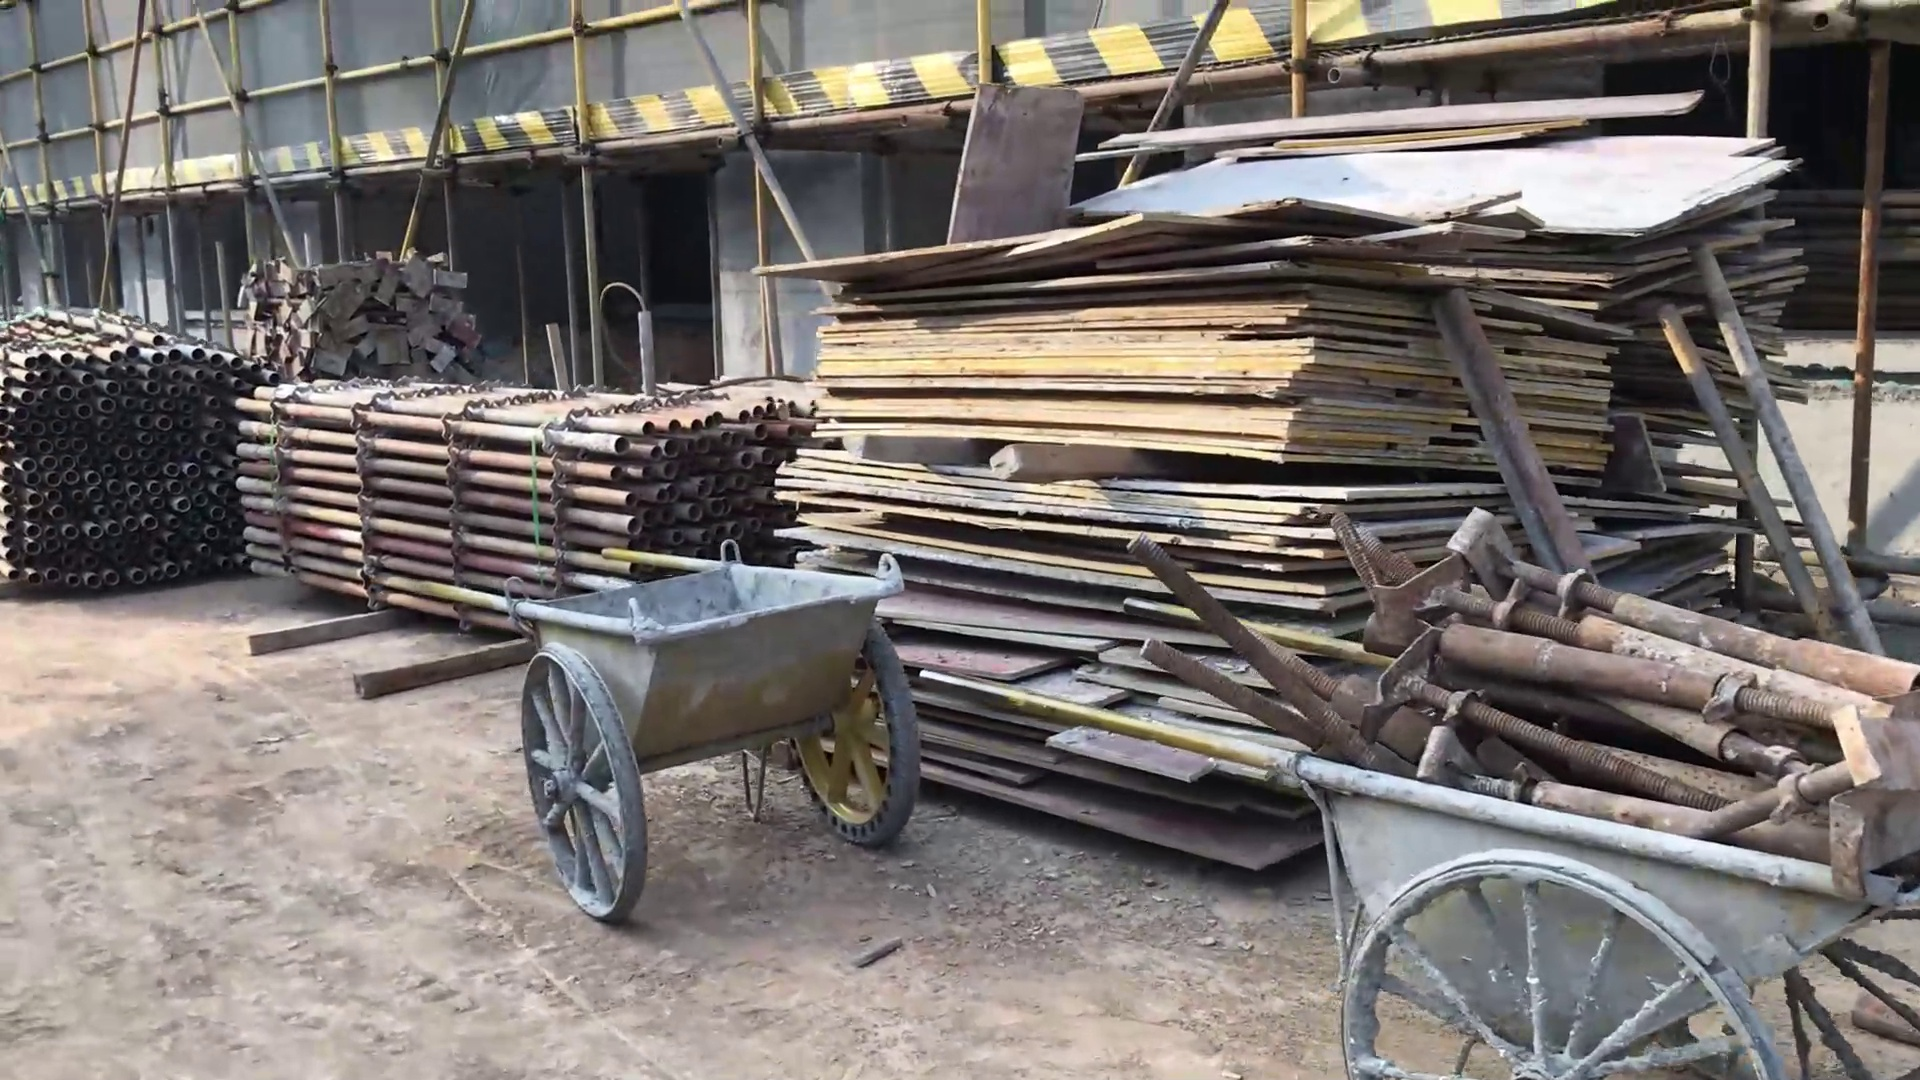board: (796, 84, 1796, 841)
handcart: (916, 591, 1919, 1080), (417, 545, 926, 928)
scaffold: (235, 375, 808, 633), (1, 307, 262, 588)
